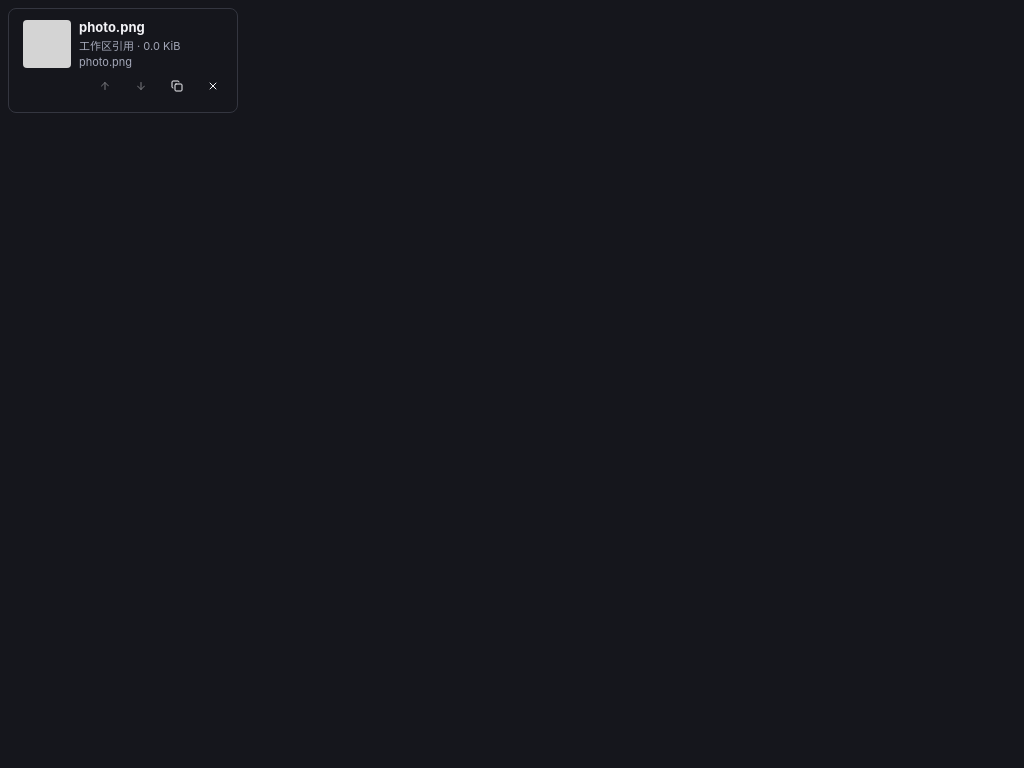
Test: loads the original photo and keeps Tab, Shift Tab, and Escape inside the preview
This screenshot has width=1024, height=768.
Click the button "photo.png 工作区引用 · 0.0 KiB photo.png" at [123, 44], box 17,17 -> 229,72
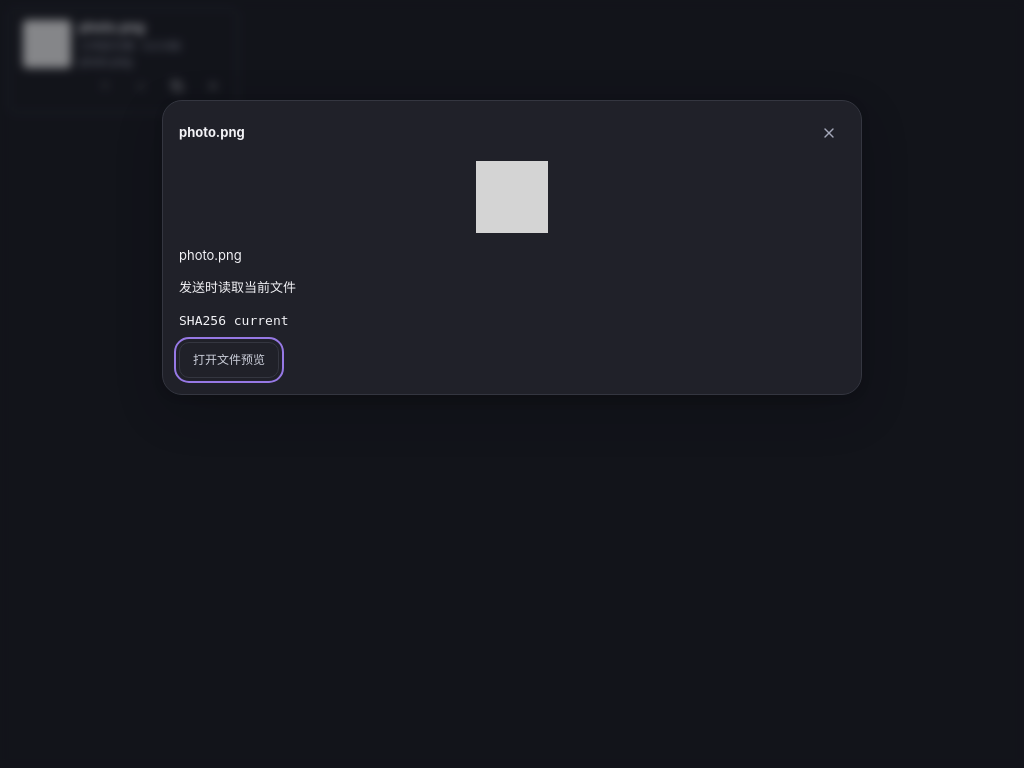
Press Tab
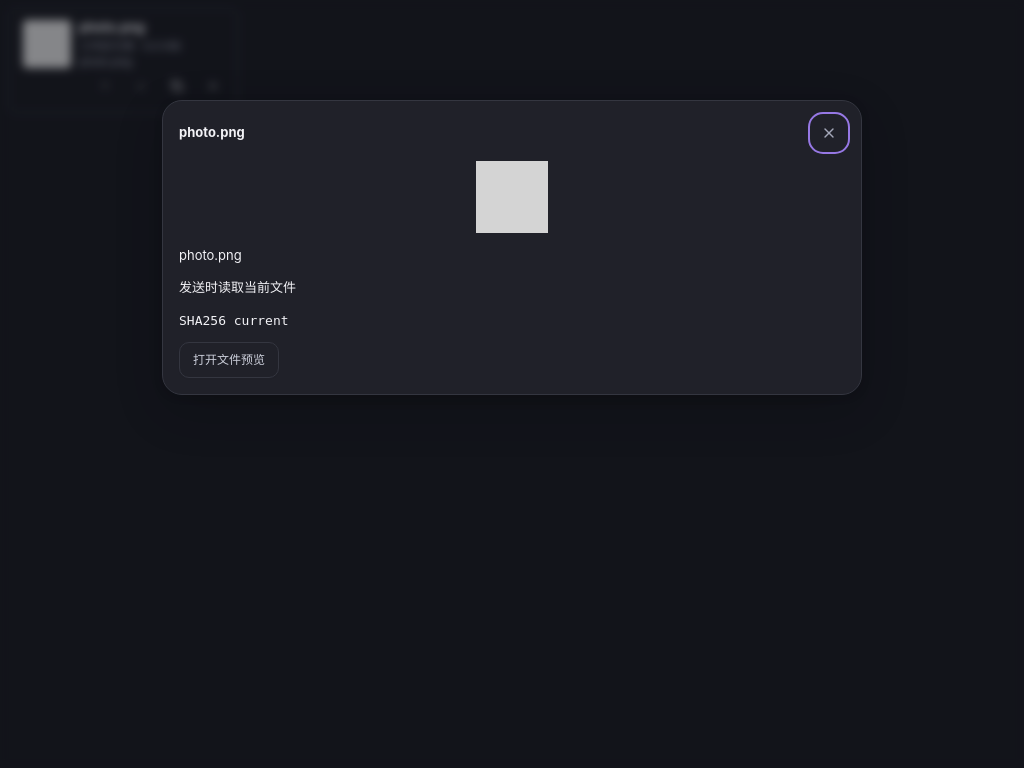
Press Shift+Tab
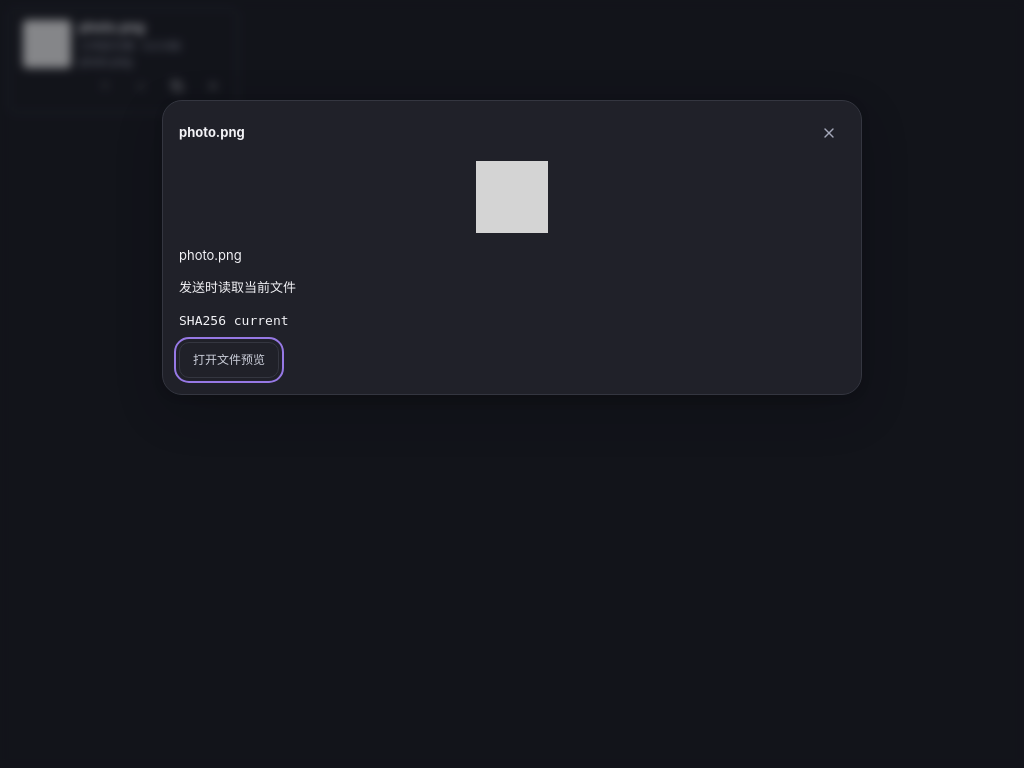
Press Escape
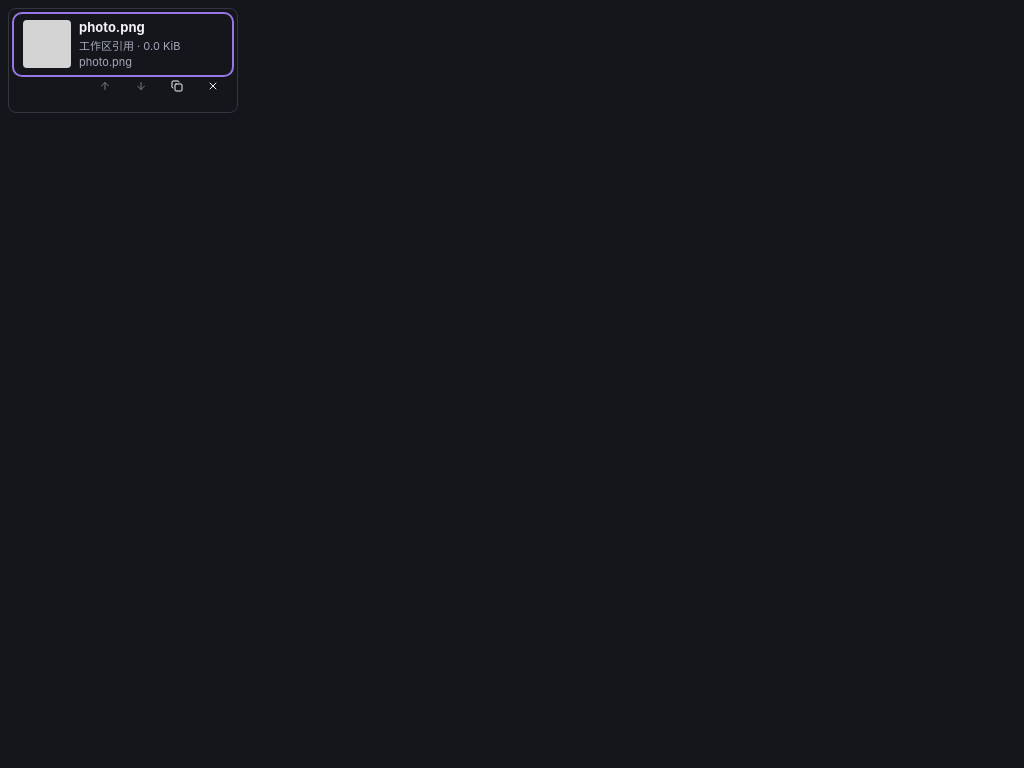
Check: the dialog is gone
